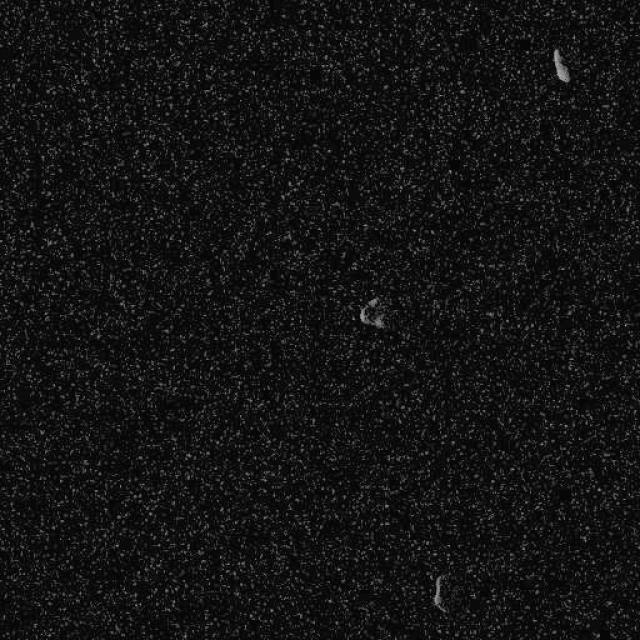D2: (358, 295, 388, 329), (551, 46, 570, 82), (432, 574, 448, 612)
